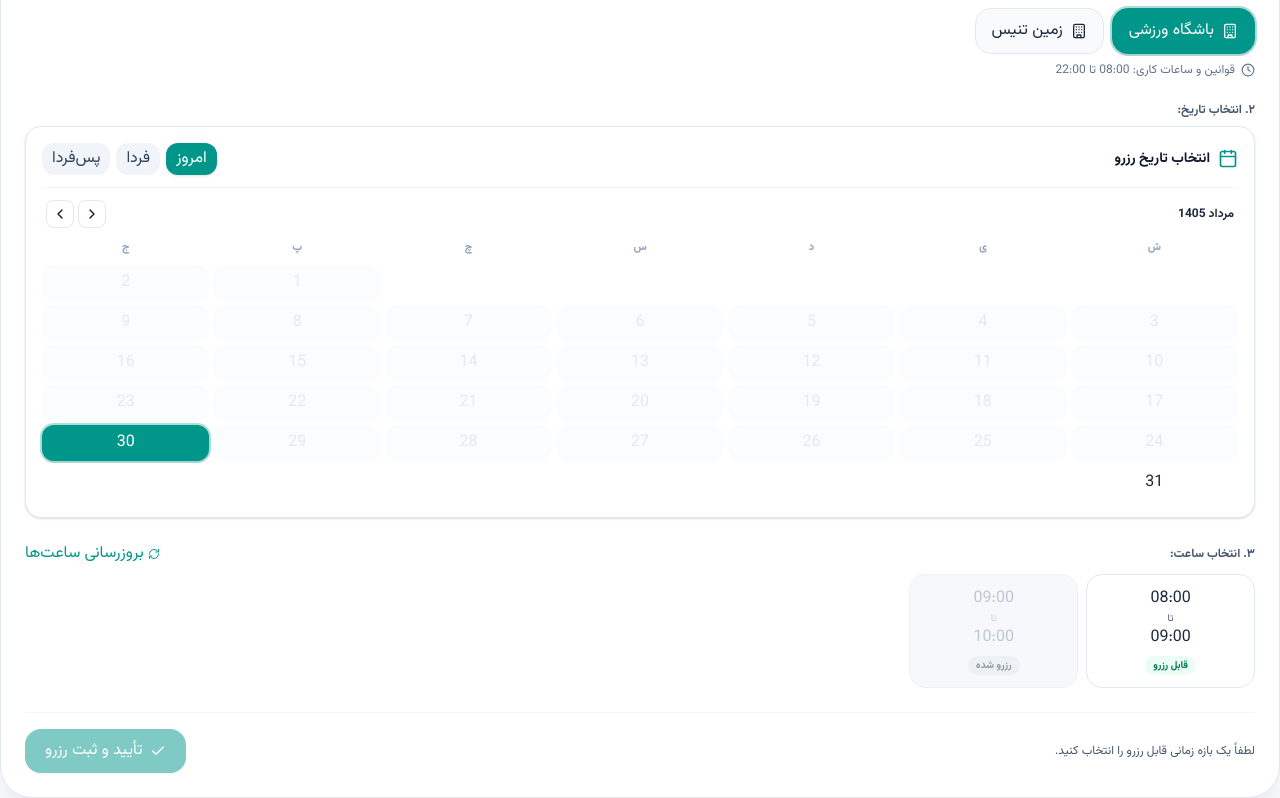
Scenario: AmenityBookingSection › handles booking conflict error when someone books the slot milliseconds earlier
This screenshot has width=1280, height=798.
(page scrolled)
Click the button "08:00 تا 09:00 قابل رزرو". click: click(1171, 630)
box: x1=1086 y1=574 x2=1255 y2=688
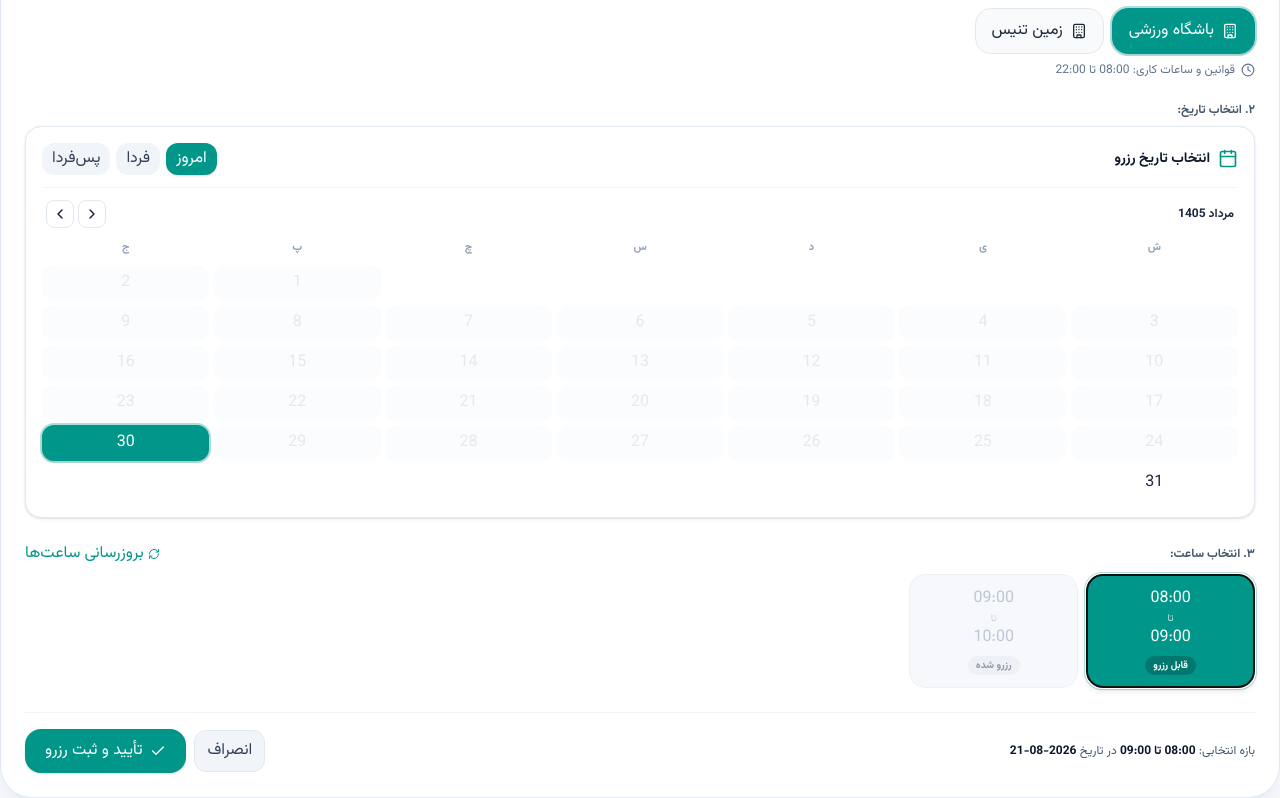
Click the button "تأیید و ثبت رزرو". click: click(106, 750)
box: x1=25 y1=728 x2=186 y2=772
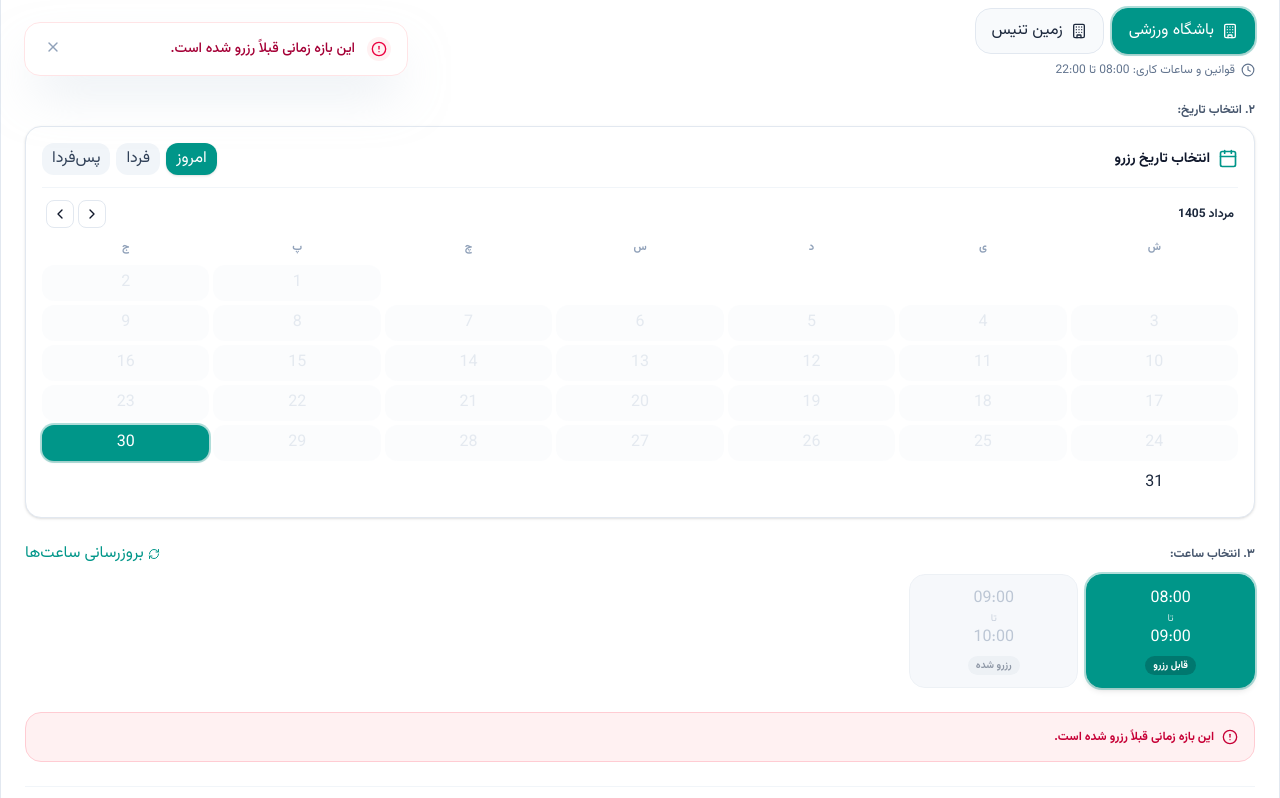
Check: the message reads "این بازه زمانی قبلاً رزرو شده است.", box x1=1054 y1=728 x2=1214 y2=746
